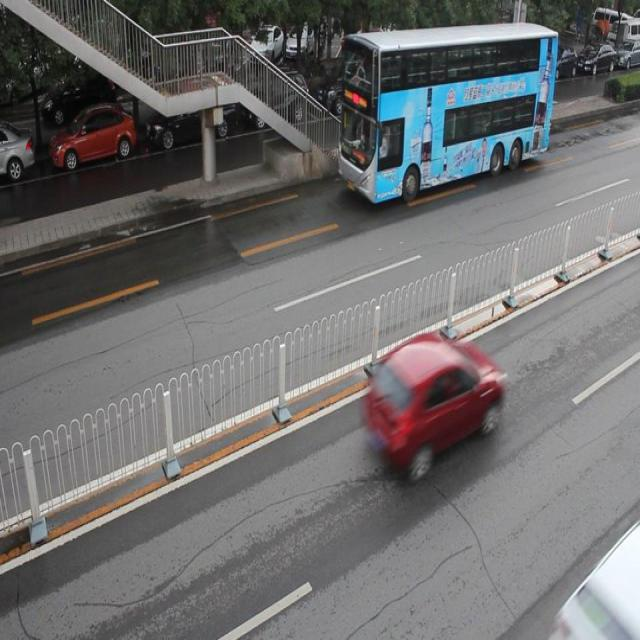car: (359, 333, 504, 481), (552, 530, 640, 640), (49, 105, 136, 172), (144, 92, 236, 150), (314, 62, 390, 122), (242, 72, 308, 130), (411, 74, 463, 132), (1, 127, 34, 181)
van: (336, 20, 557, 205)
